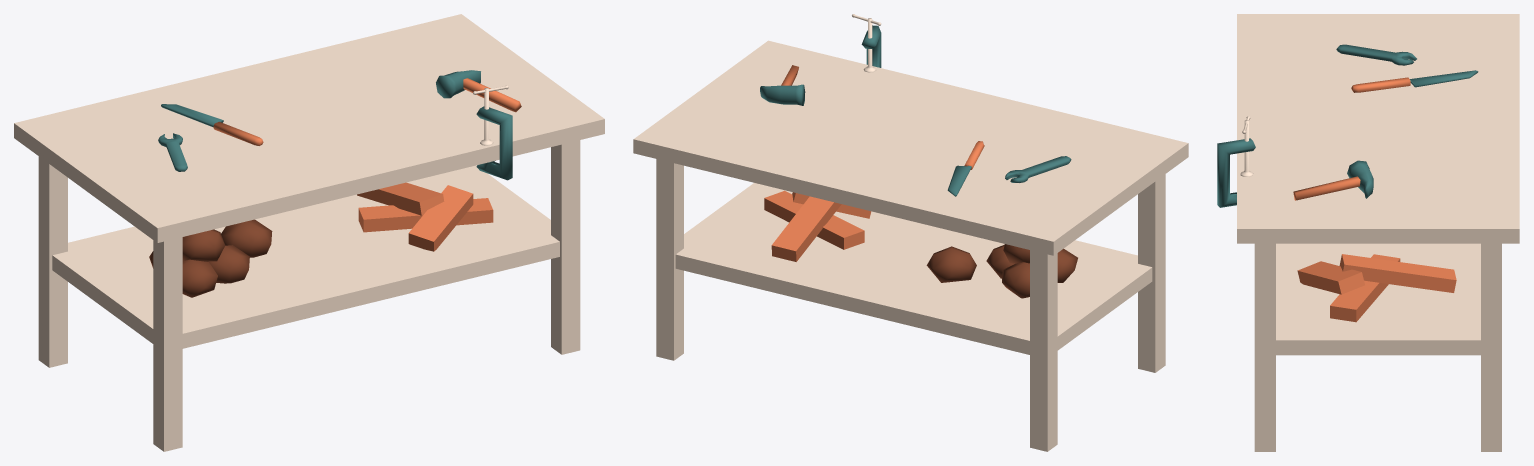
The model's file is CraftingTable.fbx.
The picture shows the model from 3 angles, left to right: view 1: azimuth 30°, elevation 25°; view 2: azimuth 150°, elevation 25°; view 3: azimuth 270°, elevation 25°; orthographic projection. The views are drawn at different scales.
Visible parts, largest first — view 1: CraftingTable_LOD0; view 2: CraftingTable_LOD0; view 3: CraftingTable_LOD0.
Boxes of the visible parts, left/top/right/bottom form: CraftingTable_LOD0: left=14, top=14, right=604, bottom=451; CraftingTable_LOD0: left=633, top=14, right=1188, bottom=451; CraftingTable_LOD0: left=1217, top=14, right=1519, bottom=451.
Size of what is drawn, in the model's own units: 1.8 by 1.11 by 1.07.
